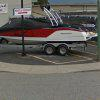Boat: (1, 12, 96, 56)
